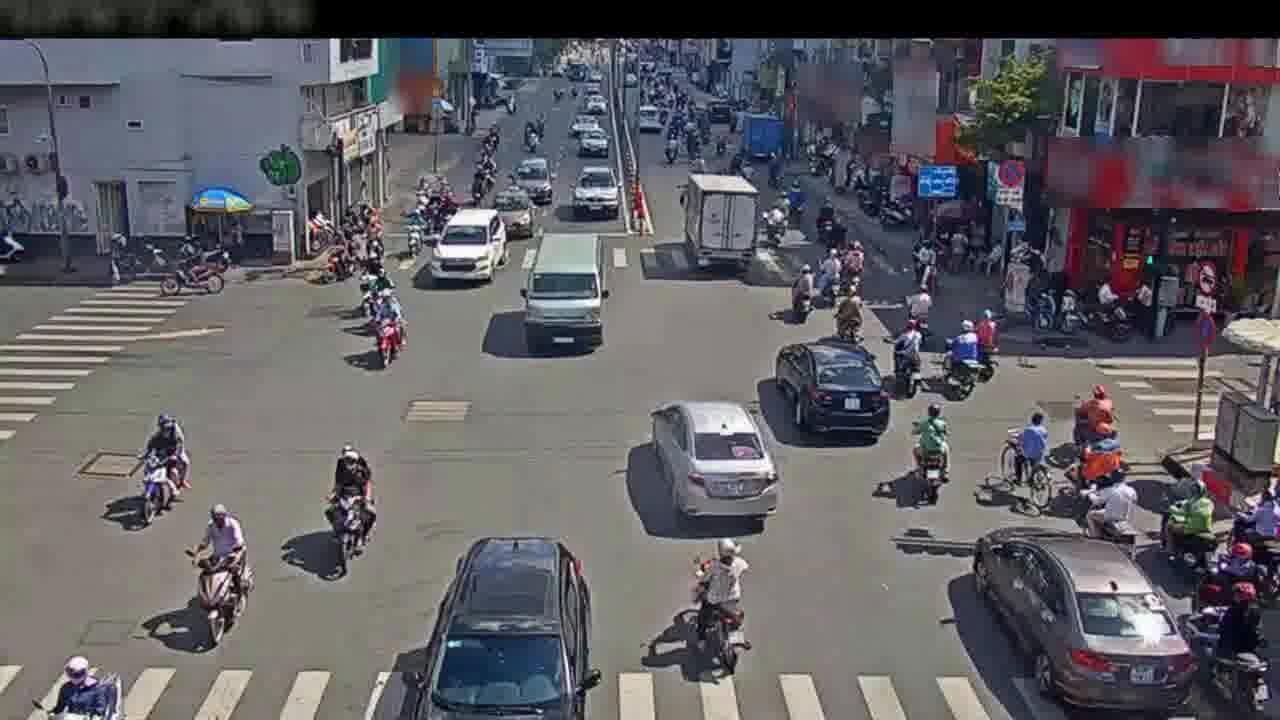8: (521, 228, 608, 346), (675, 170, 757, 278)
container: (419, 532, 590, 718), (989, 542, 1177, 701), (658, 401, 767, 523), (778, 339, 885, 444), (430, 211, 505, 282), (572, 159, 619, 224), (513, 159, 554, 206)
motorbike: (1186, 582, 1264, 719), (679, 532, 748, 679), (1153, 480, 1229, 587), (193, 502, 249, 645), (326, 436, 376, 573), (991, 414, 1057, 512), (135, 406, 188, 527), (1222, 487, 1280, 591), (153, 232, 233, 301), (1080, 469, 1144, 555), (48, 651, 120, 717), (912, 406, 951, 506), (941, 322, 987, 404), (369, 289, 406, 377), (1076, 384, 1124, 451), (893, 323, 927, 403), (357, 258, 391, 330), (1076, 424, 1124, 474), (1215, 543, 1267, 589), (835, 282, 867, 351), (317, 231, 352, 292), (808, 252, 840, 316), (907, 233, 938, 298), (787, 260, 817, 327), (360, 214, 389, 278), (840, 233, 868, 295), (976, 309, 1000, 379), (399, 201, 424, 267), (762, 200, 786, 256), (813, 198, 840, 246), (784, 179, 807, 230), (909, 286, 929, 326)
